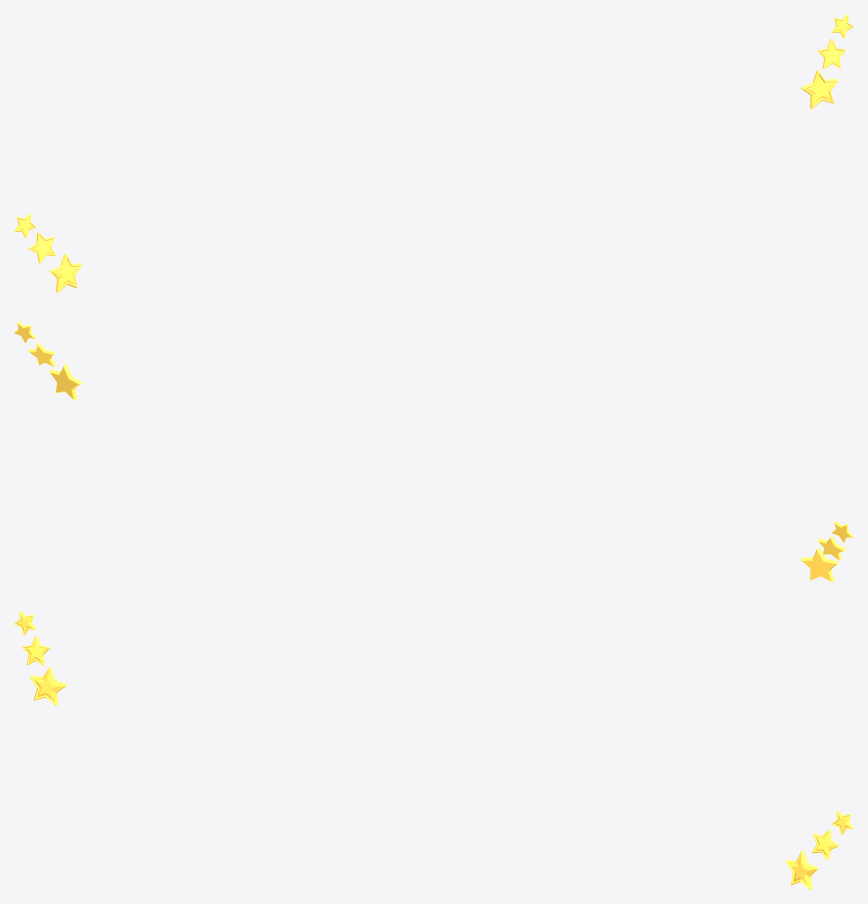
File: jewelry_star_tripple_gold.glb
The picture shows the model from 3 angles, top to bottom: view 1: azimuth 30°, elevation 25°; view 2: azimuth 150°, elevation 25°; view 3: azimuth 330°, elevation 25°; orthographic projection.
Visible parts, largest first — view 1: jewlery_star_tripple_gold; view 2: jewlery_star_tripple_gold; view 3: jewlery_star_tripple_gold.
Boxes of the visible parts, x1,y1,x2,y2 form: jewlery_star_tripple_gold: [14, 14, 853, 292]; jewlery_star_tripple_gold: [14, 321, 853, 582]; jewlery_star_tripple_gold: [14, 611, 853, 889].
Size of the model in its own units: 0.3758 by 0.0322 by 0.0113.
